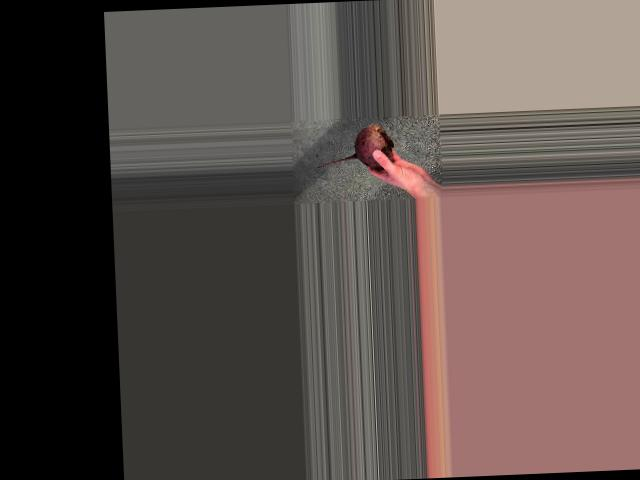beet: (315, 123, 394, 169)
